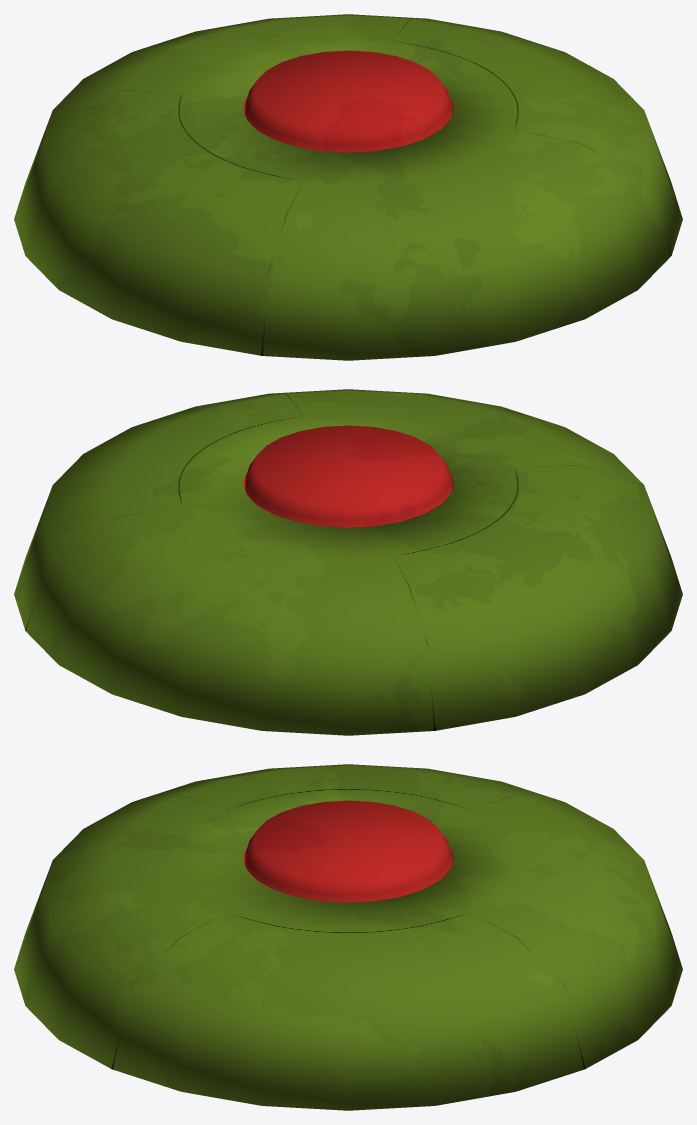
3 views of the same model, one above another, from view 1: azimuth 30°, elevation 25°; view 2: azimuth 150°, elevation 25°; view 3: azimuth 270°, elevation 25° (orthographic).
Visible parts, largest first — view 1: LE_Landmine; view 2: LE_Landmine; view 3: LE_Landmine.
Part boxes in pixels (bbox=[...]): LE_Landmine: bbox=[14, 14, 682, 360]; LE_Landmine: bbox=[14, 389, 682, 735]; LE_Landmine: bbox=[14, 764, 682, 1110].
Bounding box in the file's own units: 3.2 × 0.6798 × 3.2.
Materials: 1 (1 with a texture image).
